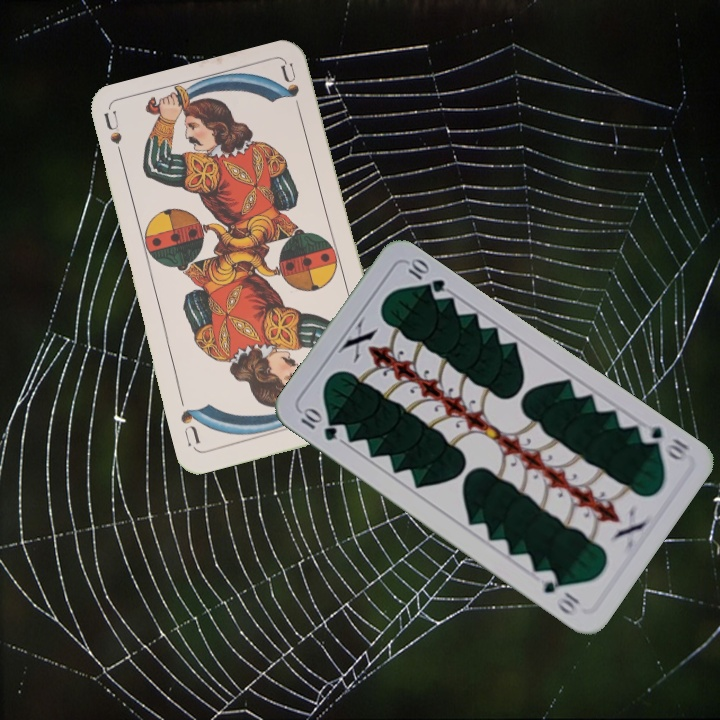G10: (635, 421, 692, 465), (296, 404, 340, 444)
SU: (100, 108, 127, 168)
